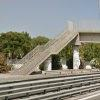stairs: (18, 51, 48, 76), (50, 29, 78, 53)
